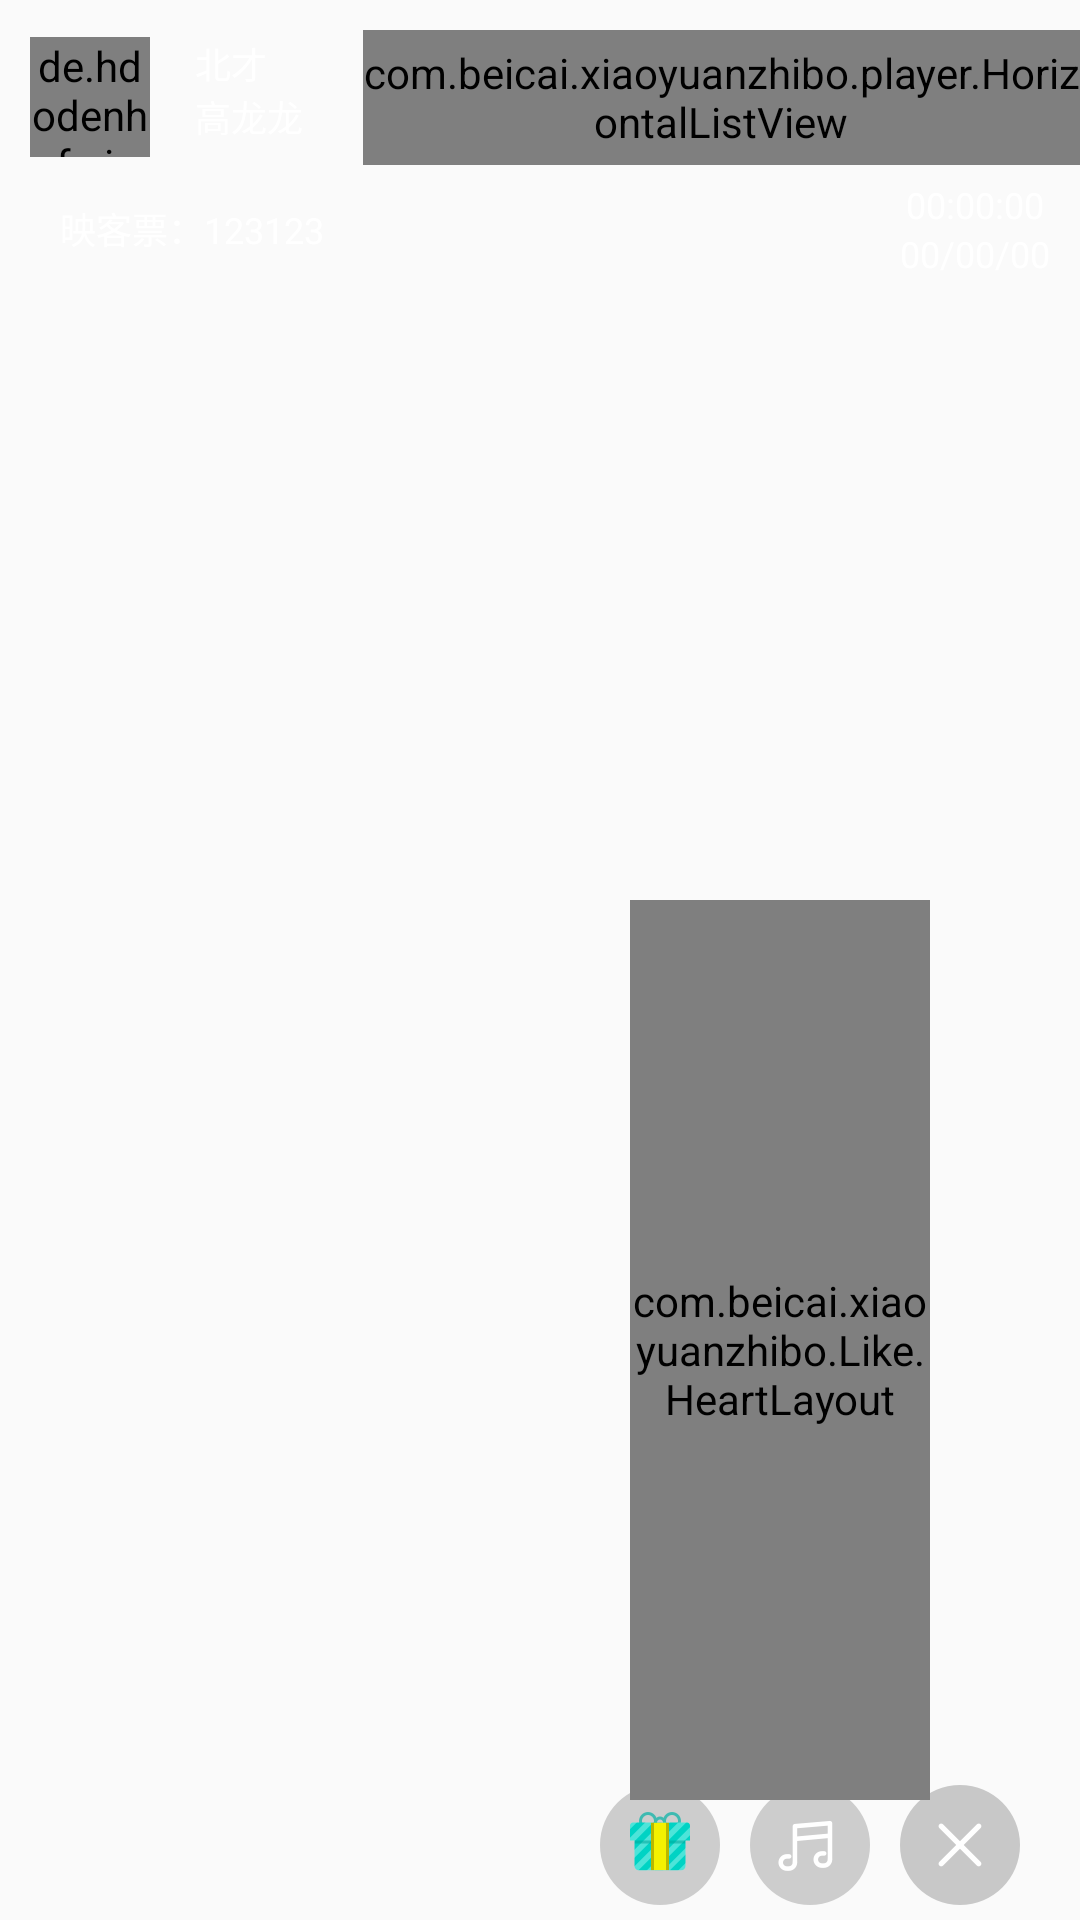

Where to tap for icons on this 1080px x 1920px app screen, as [x,y]:
room down gift: [660,1845]
room down music: [810,1845]
